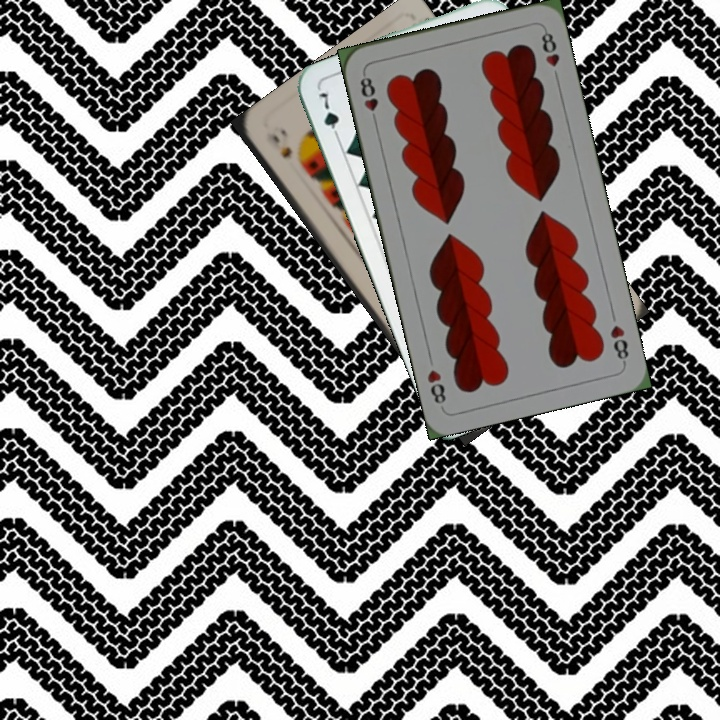G7: (312, 88, 343, 144)
H8: (356, 69, 381, 127), (606, 321, 631, 367)
S10: (262, 128, 295, 161)
